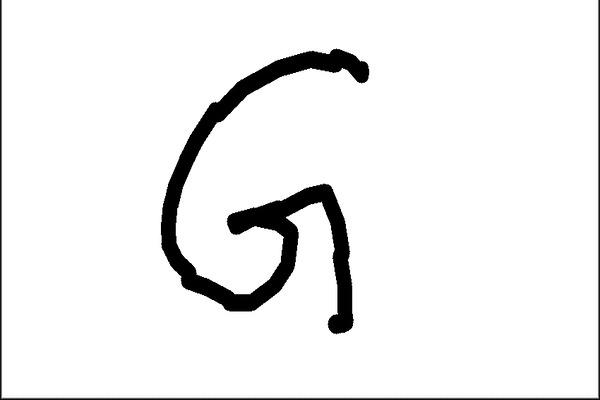G: (154, 43, 379, 337)
